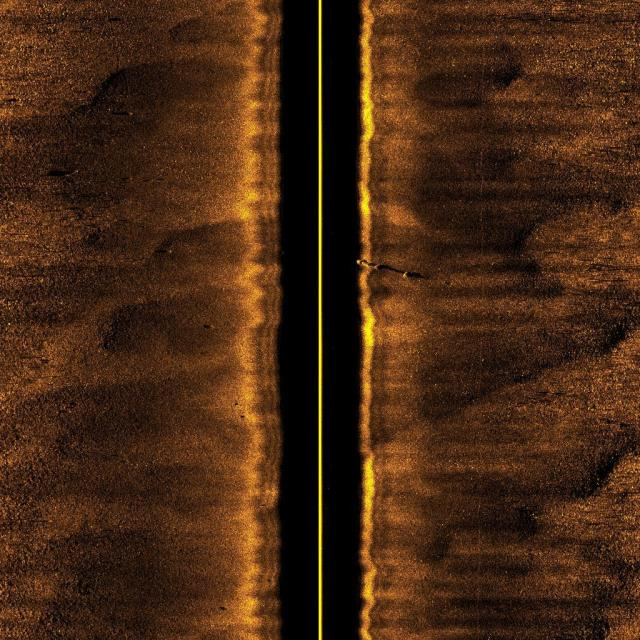mine: (358, 258, 372, 268)
